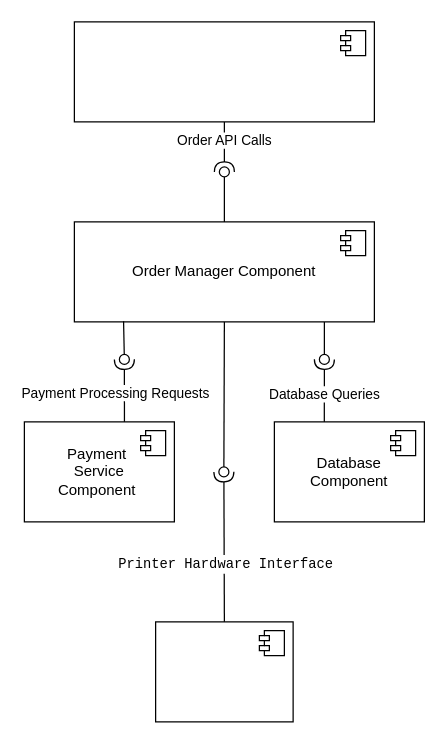
Some shapes in this 448 by 744 pixel diagram are drawn without their labels. Here are the shapes that lost their labels. From the top down, the box of each, then its label:
(73, 21, 374, 122): User Interface Component
(154, 621, 293, 722): Receipt Printer Component
